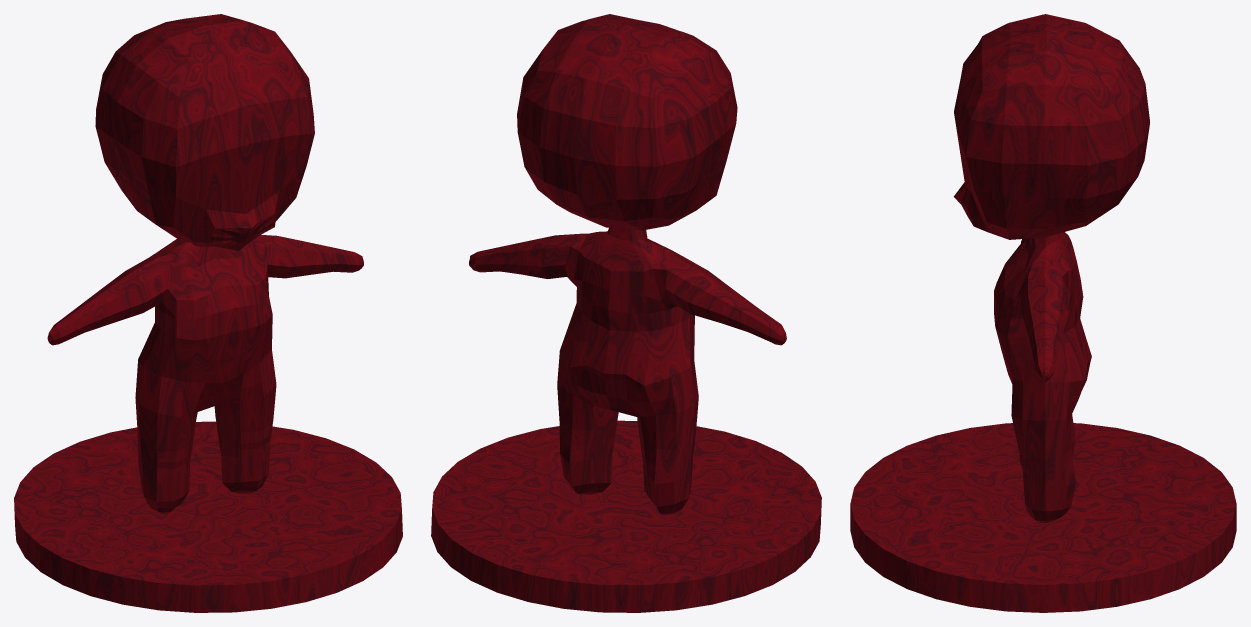
The model's file is PlaceholderRedCharacter.fbx.
3 views of the same model, side by side, from view 1: azimuth 30°, elevation 25°; view 2: azimuth 150°, elevation 25°; view 3: azimuth 270°, elevation 25° (orthographic).
Parts seen in each view (by area): view 1: Cube; view 2: Cube; view 3: Cube.
Part boxes in pixels (x1,y1,x2,y2): Cube: (14, 14, 402, 612); Cube: (431, 14, 821, 612); Cube: (850, 14, 1236, 612).
Bounding box in the file's own units: 296 × 423 × 296.
Materials: 1 (1 with a texture image).
